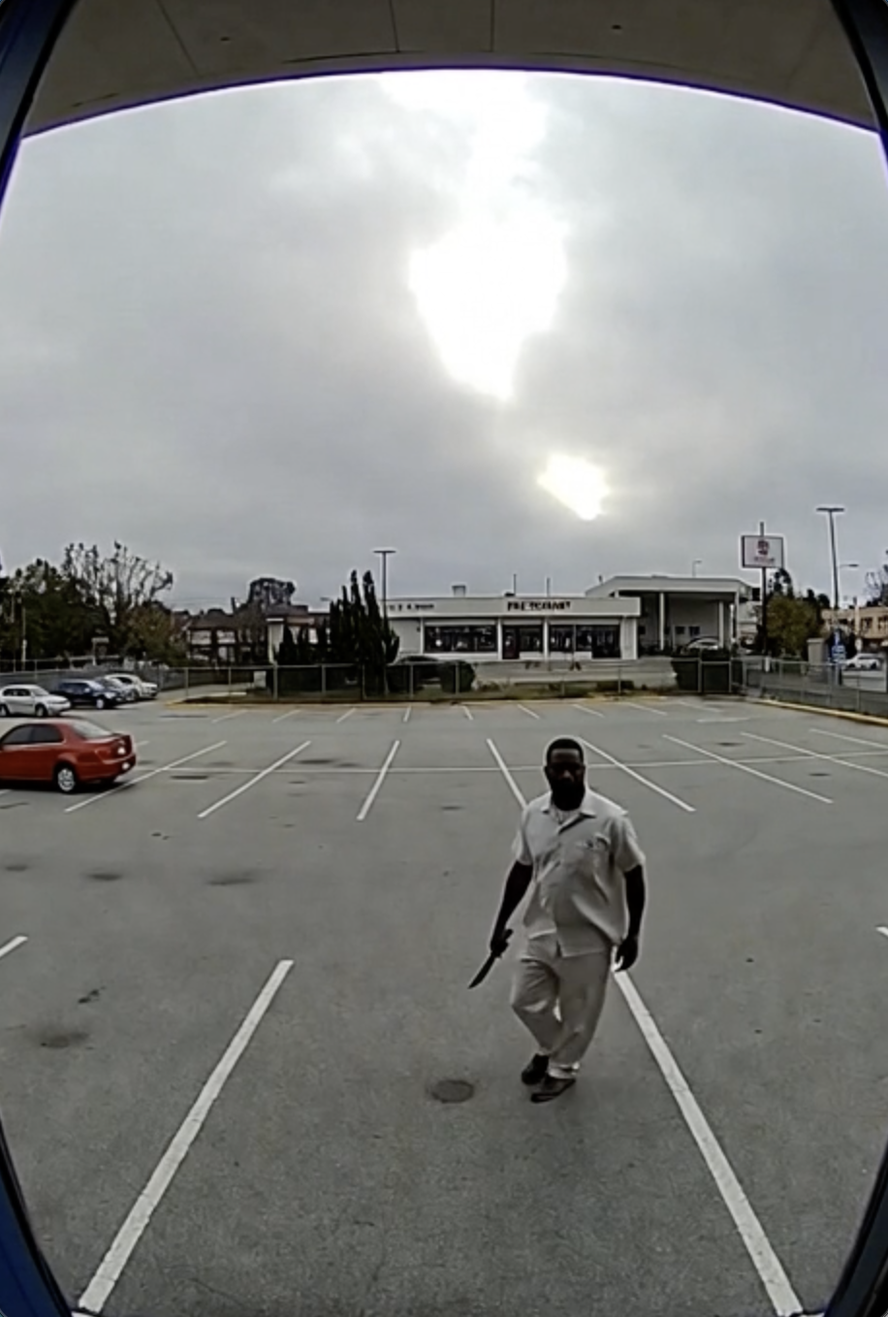Heavy Gun: (487, 721, 649, 1103)
Knife: (466, 929, 522, 989)
